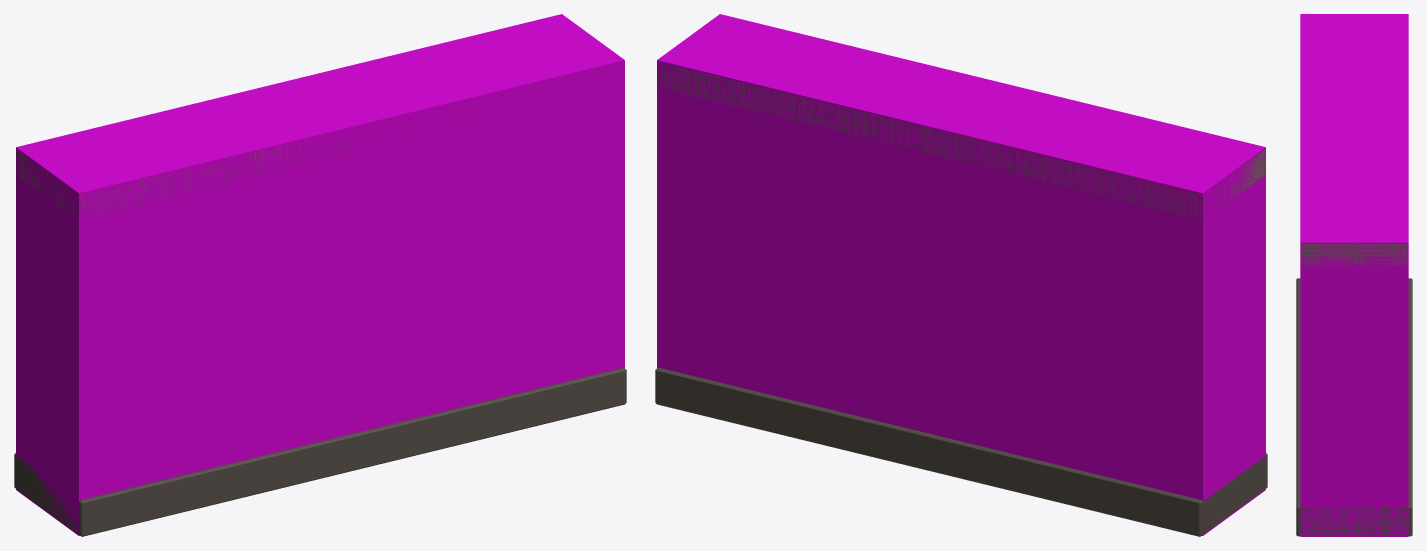
Rendered from ENV_Wall_Stone_A.glb.
3 renders of one model, left to right at view 1: azimuth 30°, elevation 25°; view 2: azimuth 150°, elevation 25°; view 3: azimuth 270°, elevation 25°, orthographic. The views are drawn at different scales.
Parts seen in each view (by area): view 1: COL_Wall, ENV_Wall_Stone_A_Mesh; view 2: COL_Wall, ENV_Wall_Stone_A_Mesh; view 3: COL_Wall, ENV_Wall_Stone_A_Mesh.
Part boxes in pixels (<box>): COL_Wall: <box>16,14,624,535</box>; ENV_Wall_Stone_A_Mesh: <box>14,130,626,536</box>; COL_Wall: <box>657,14,1265,535</box>; ENV_Wall_Stone_A_Mesh: <box>655,62,1267,536</box>; COL_Wall: <box>1300,14,1408,536</box>; ENV_Wall_Stone_A_Mesh: <box>1296,244,1412,536</box>.
Size of the model in its own units: 4 by 2.4 by 0.86.
